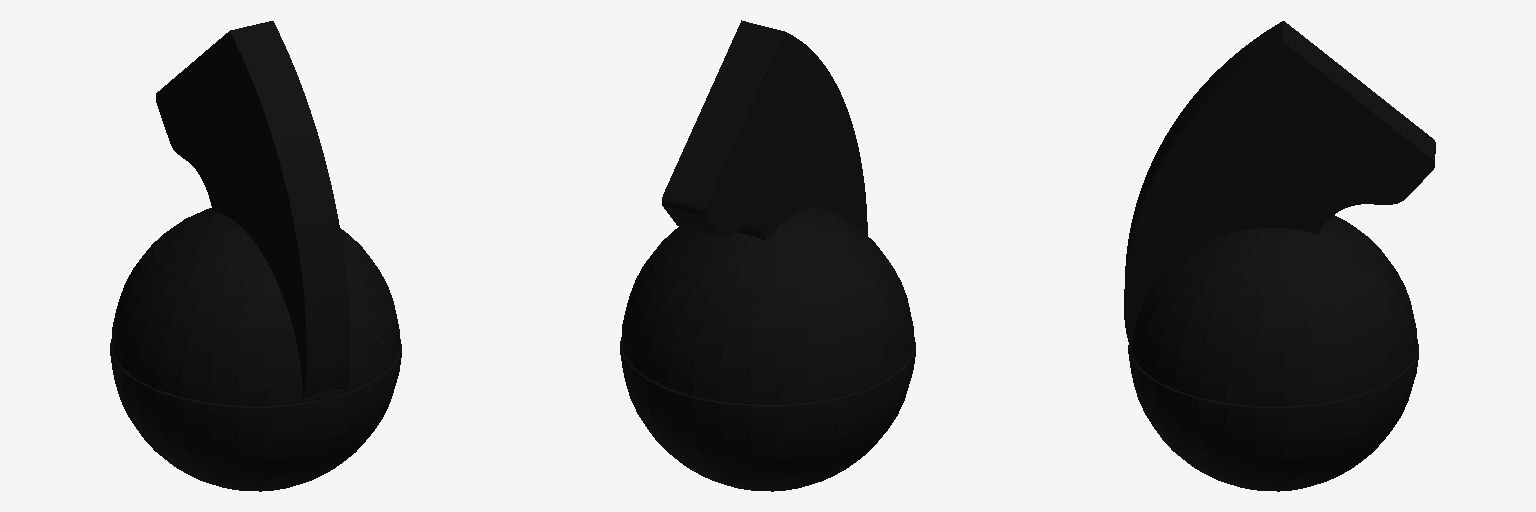
The robot description file, URDF, robot "knight_w":
<?xml version="1.0"?>
<robot name="knight_w">
  <link name="base_link">
    <visual>
      <origin xyz="0 0 0" rpy="0 0 0"/>
      <geometry>
        <mesh filename="./meshes/Knight.stl" scale="0.003 0.003 0.003"/>
      </geometry>
      <material name="piece_material">
        <color rgba="0.1 0.1 0.1 1.0"/>
      </material>
    </visual>
    <collision>
      <origin xyz="0 0 0.025" rpy="0 0 0"/>
      <geometry>
        <cylinder radius="0.012" length="0.05"/>
      </geometry>
    </collision>
    <inertial>
      <origin xyz="0 0 0.025" rpy="0 0 0"/>
      <mass value="0.04"/> <!-- 40 grams, or adjust -->
      <inertia
        ixx="0.00005" ixy="0.0" ixz="0.0"
        iyy="0.00005" iyz="0.0"
        izz="0.00001"/>
    </inertial>
  </link>
</robot>

--- Render facts (derived) ---
Views: 3 orthographic renders of the robot side by side, from view 1: azimuth 30°, elevation 25°; view 2: azimuth 150°, elevation 25°; view 3: azimuth 270°, elevation 25°.
Robot: knight_w — 1 links, 0 joints (none); root link base_link; default pose: all joints at 0.
Links seen in each view (by area): view 1: base_link; view 2: base_link; view 3: base_link.
Link boxes in pixels (x1,y1,x2,y2): base_link: (110,21,401,491); base_link: (620,20,915,491); base_link: (1124,21,1435,491).
Size in the robot's own frame: 0.0522 by 0.0561 by 0.0888 metres.
Meshes: 1 distinct files referenced, 1 mesh visuals loaded (1 binary STL).
